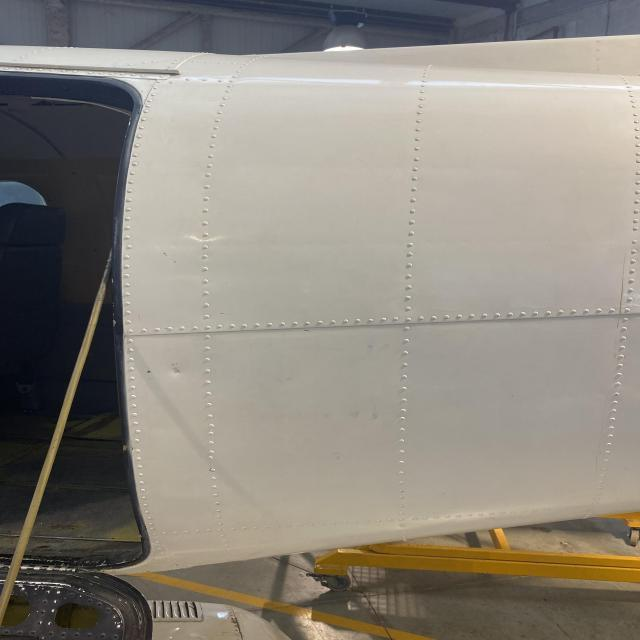Dent: (163, 359, 192, 379)
